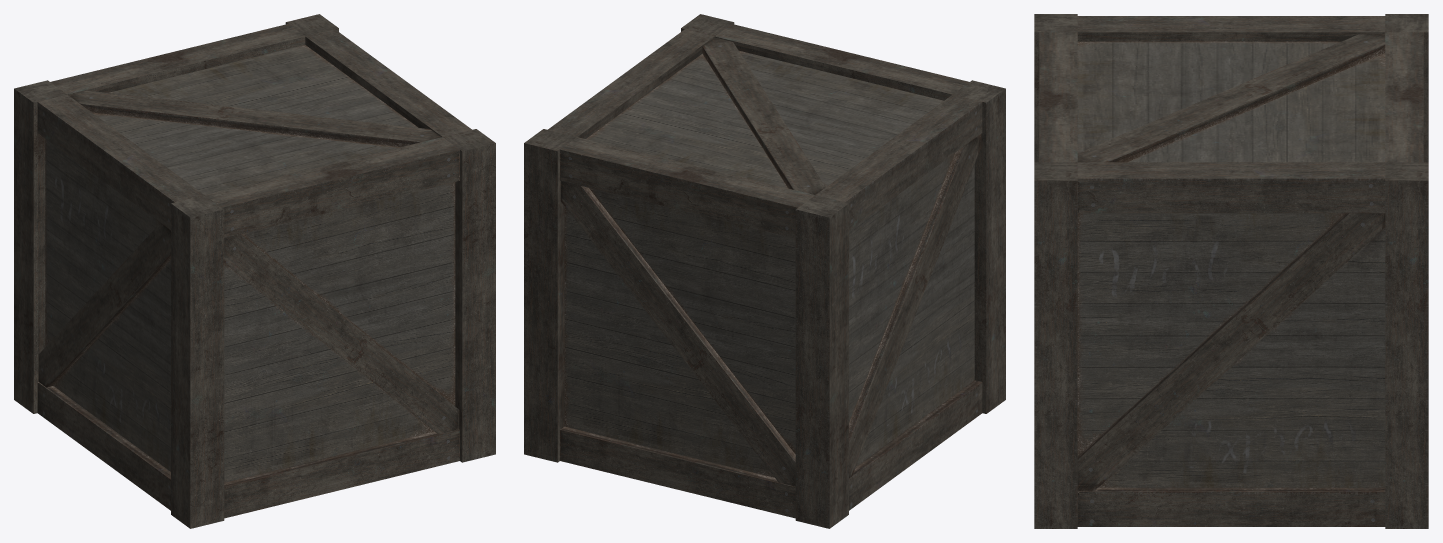
The picture shows the model from 3 angles, left to right: view 1: azimuth 30°, elevation 25°; view 2: azimuth 150°, elevation 25°; view 3: azimuth 270°, elevation 25°; orthographic projection. The views are drawn at different scales.
Parts seen in each view (by area): view 1: SM_box_01_LOD0; view 2: SM_box_01_LOD0; view 3: SM_box_01_LOD0.
Boxes of the visible parts, box(x1,y1,x2,y2) form: SM_box_01_LOD0: box(14, 14, 495, 528); SM_box_01_LOD0: box(524, 14, 1005, 528); SM_box_01_LOD0: box(1034, 14, 1428, 528).
Bounding box in the file's own units: 131 × 131 × 128.
1 material, 1 textured.
